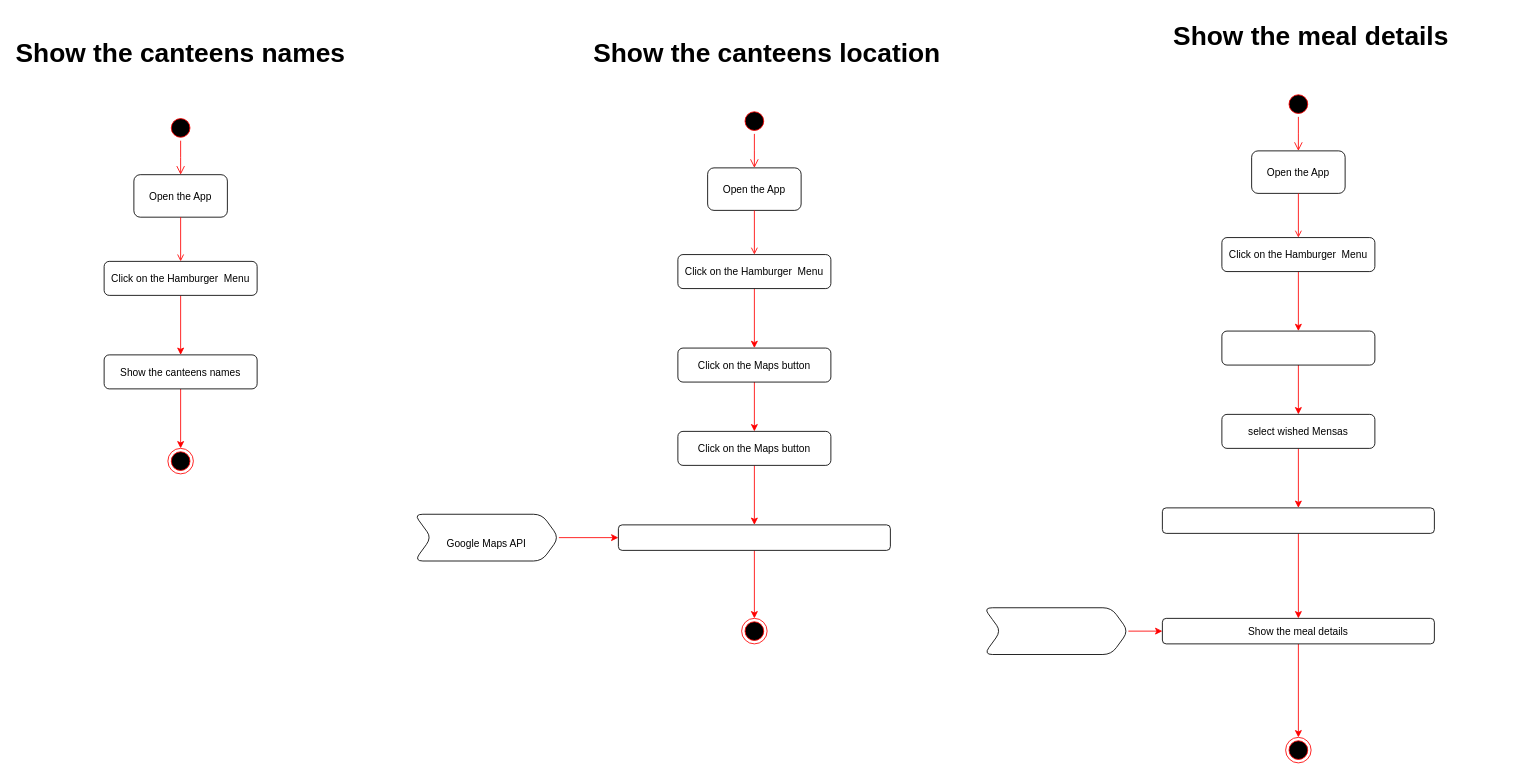
This 1516x778 diagram has some shape labels left out. The shapes that lost their labels are listed below. From the top down, each one's centre as x and y in pixels, then its label:
(1298,347): Click on the Mensa button
(754,537): Show the Map of Karlsruhe with cantion location marker
(1298,520): click on the meal item
(1055,630): Stored meals information
